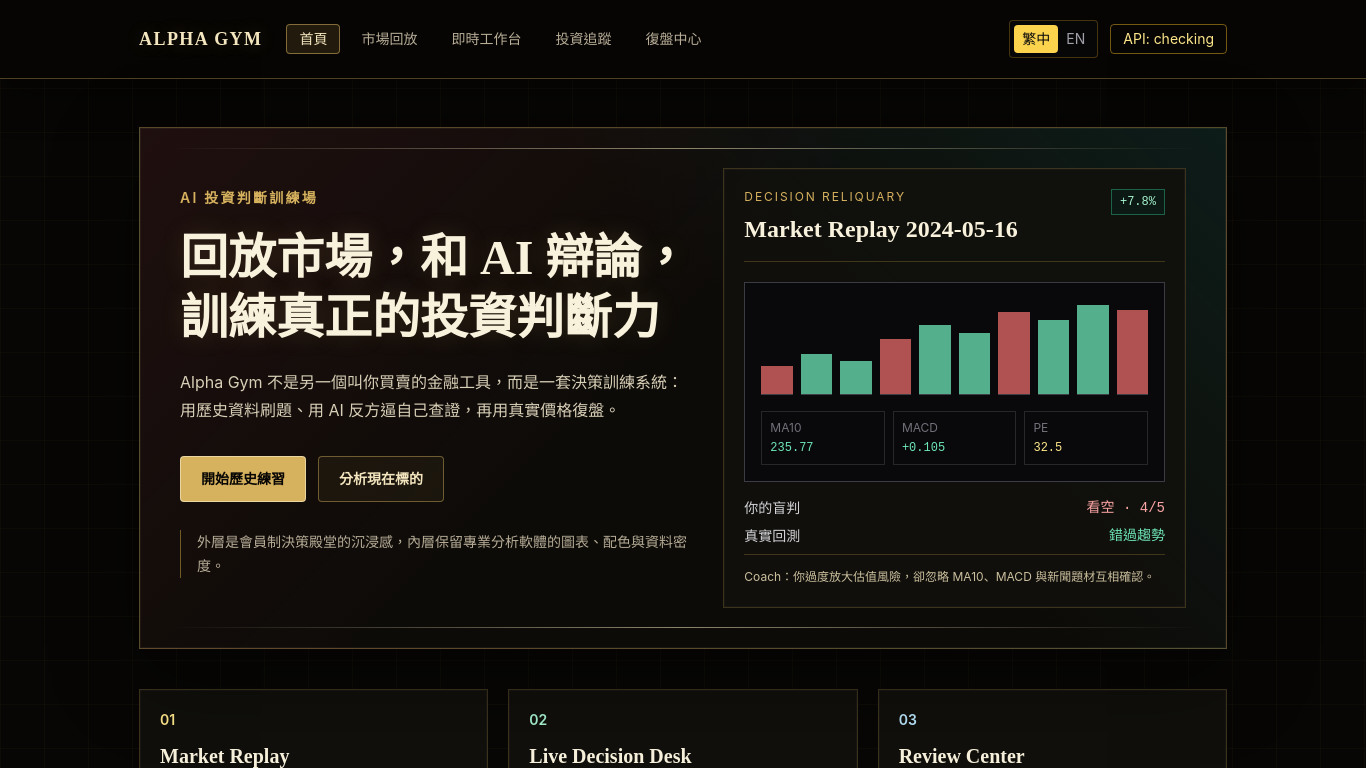
Test: App › loads records with settled scoreboard data
Click the button "復盤中心".
click(674, 39)  # box [632,24,714,54]
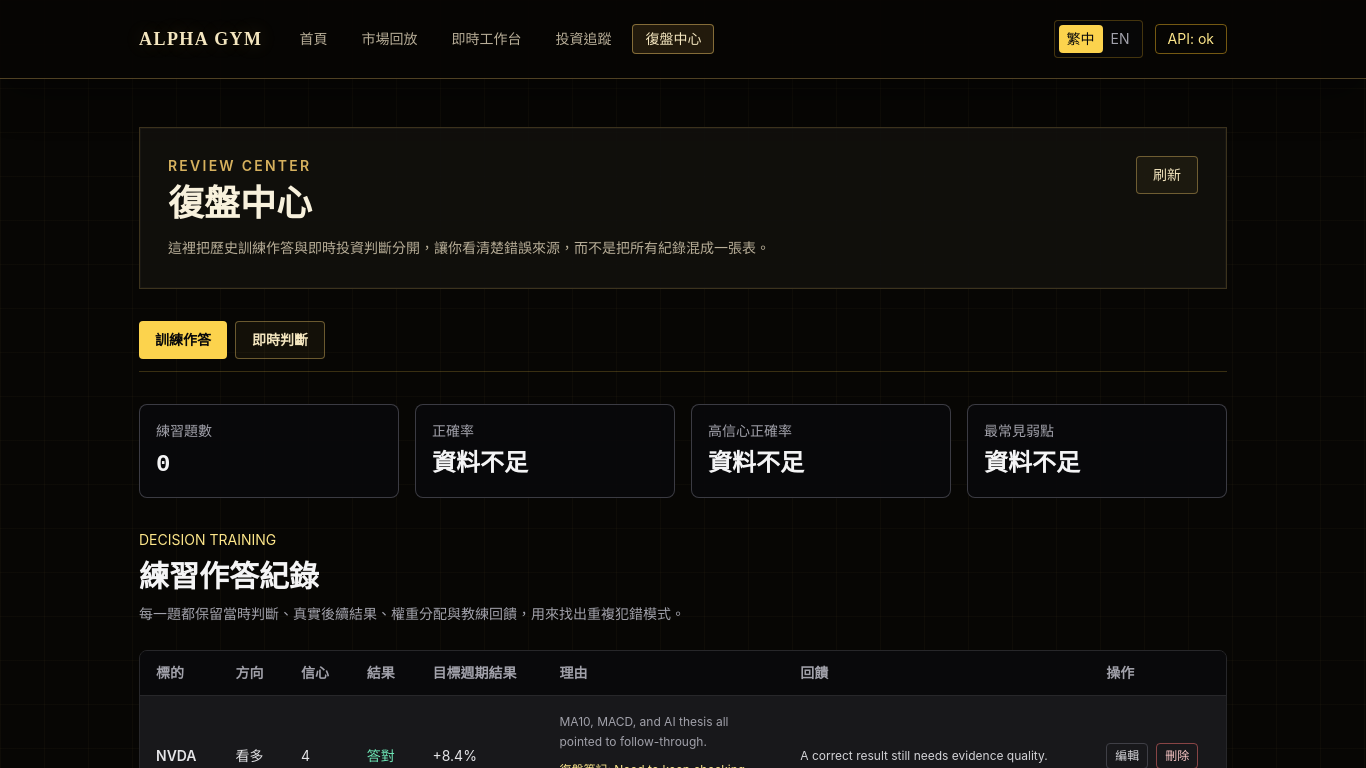
Expected: the heading "復盤中心" is shown, [168,184,312,224]
Expected: the heading "練習作答紀錄" is shown, [139,558,319,594]
Click the button "即時判斷".
click(280, 340)  # box [235,321,325,359]
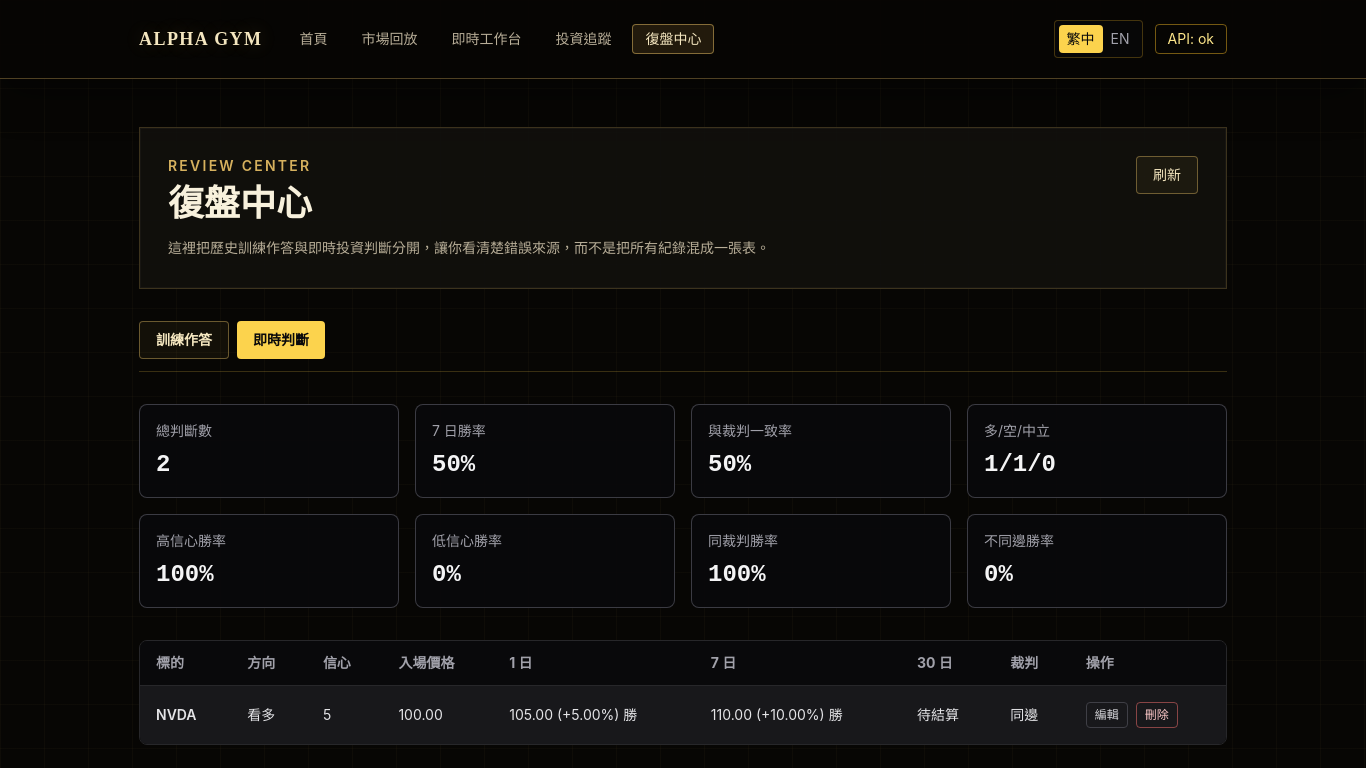
Expected: the text "7 日勝率" is shown, [432,422,486,439]
Expected: the text "110.00 (+10.00%) 勝" is shown, [695,686,901,744]
Expected: the text "待結算" is shown, [901,686,994,744]
